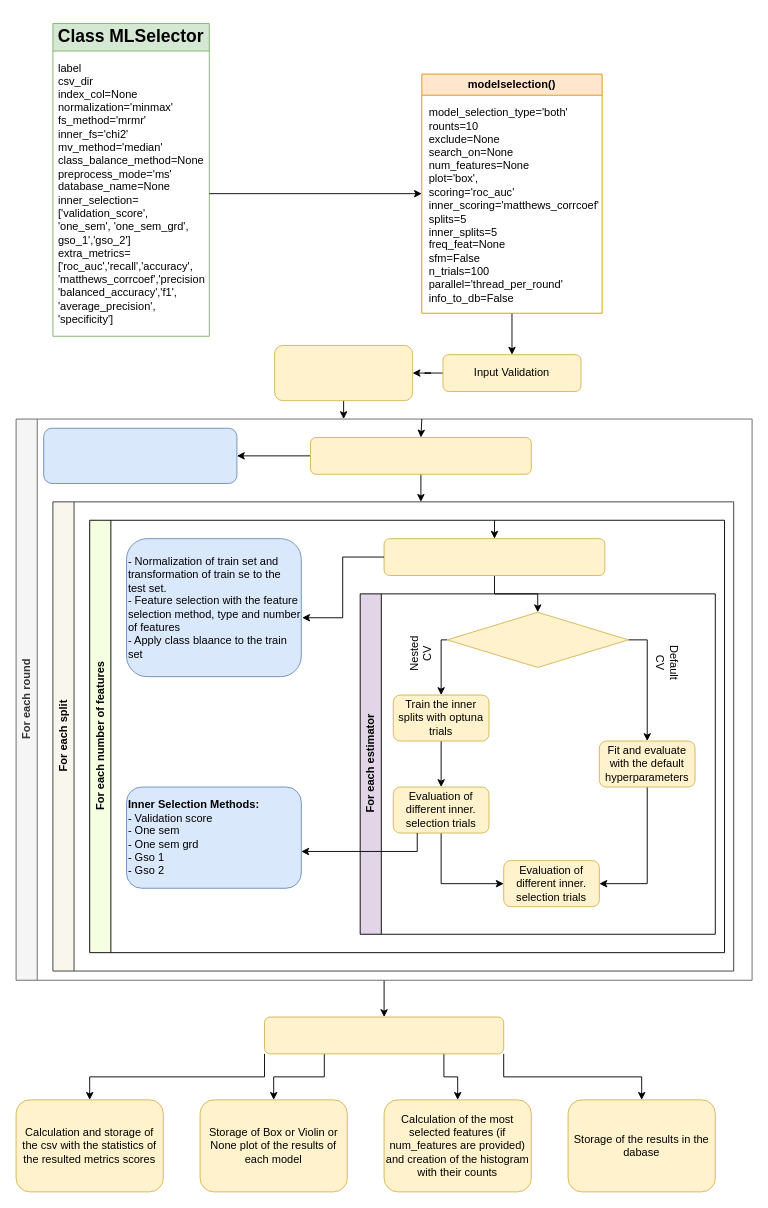
This 768x1208 diagram has some shape labels left out. The shapes that lost their labels are listed below. From the top down, each one's centre as x and y in pixels, then its label:
At pixel 343 373: "Assigns the rounds to the threads of the selected Parallelisation method".
At pixel 140 455: "Stractified split with different random seed for each round".
At pixel 420 455: "Train-Test split (outer)".
At pixel 494 556: "Preprocess of the train-test set".
At pixel 537 639: "Model selection type".
At pixel 384 1035: "Creation of all the rounds results".
